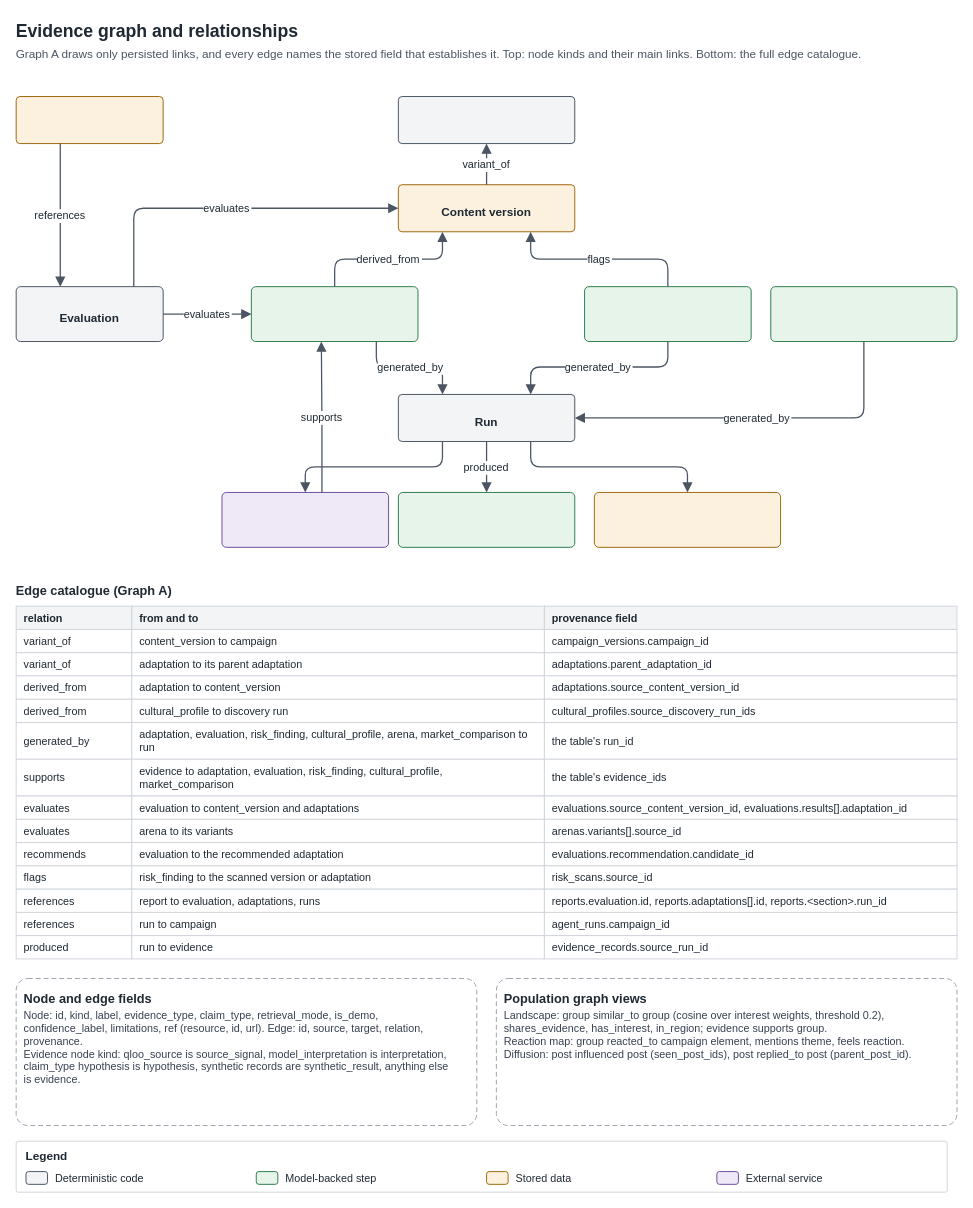
Image size: 973x1208. Some labels were removed from this diagram. Each missing label, with the box of its shape:
Adaptation: (250, 286, 418, 342)
Campaign: (397, 96, 575, 144)
Cultural profile, arena, market comparison: (770, 286, 957, 342)
Hypothesis, synthetic result, other evidence: (593, 491, 781, 547)
Interpretation: (397, 491, 575, 547)
Report: (15, 96, 163, 144)
Risk finding: (584, 286, 751, 342)
Source signal (qloo_source): (221, 491, 389, 547)
